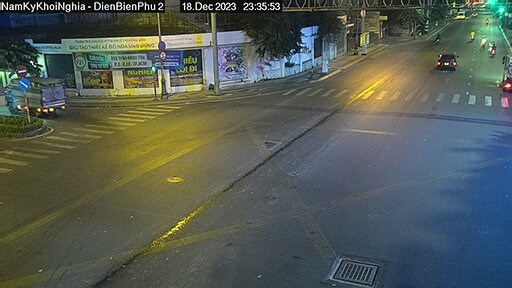car: (435, 49, 459, 74)
